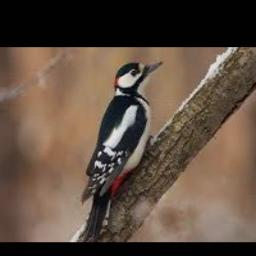Woodpecker: (82, 60, 164, 242)
